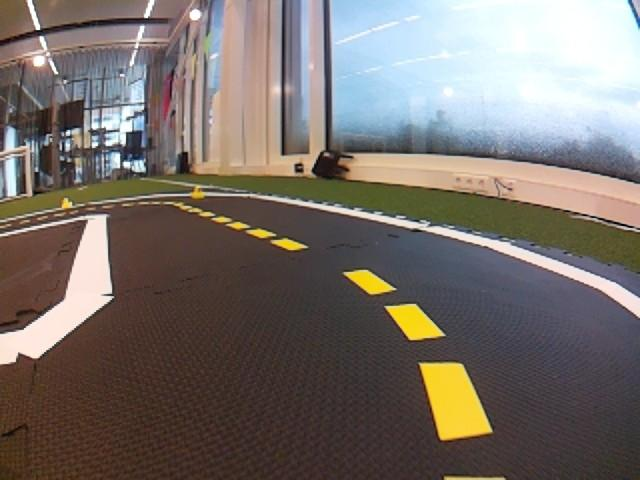Duckies: (190, 186, 206, 200), (61, 197, 72, 210)
